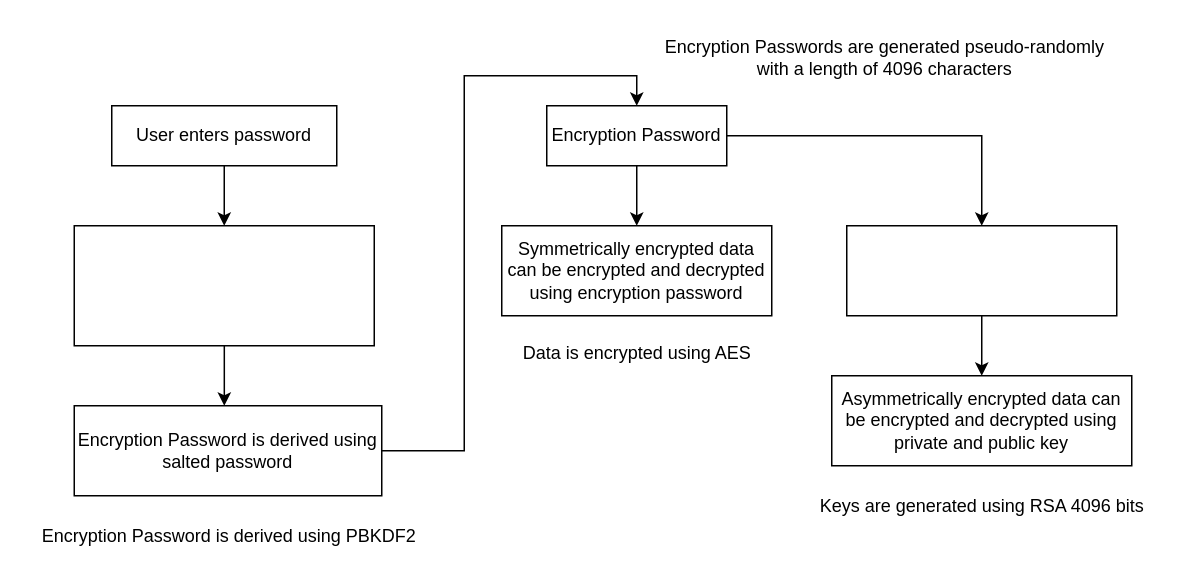
The diagram is 1188 pixels wide and 584 high, and some of its shapes have lost their labels. The shapes that lost their labels are listed below. From the top down, each one's centre as x and y in pixels, then its label:
point (223, 285): Password gets salted with unique user salt + instance salt + constant salt
point (981, 270): Private key is decrypted using encryption password
